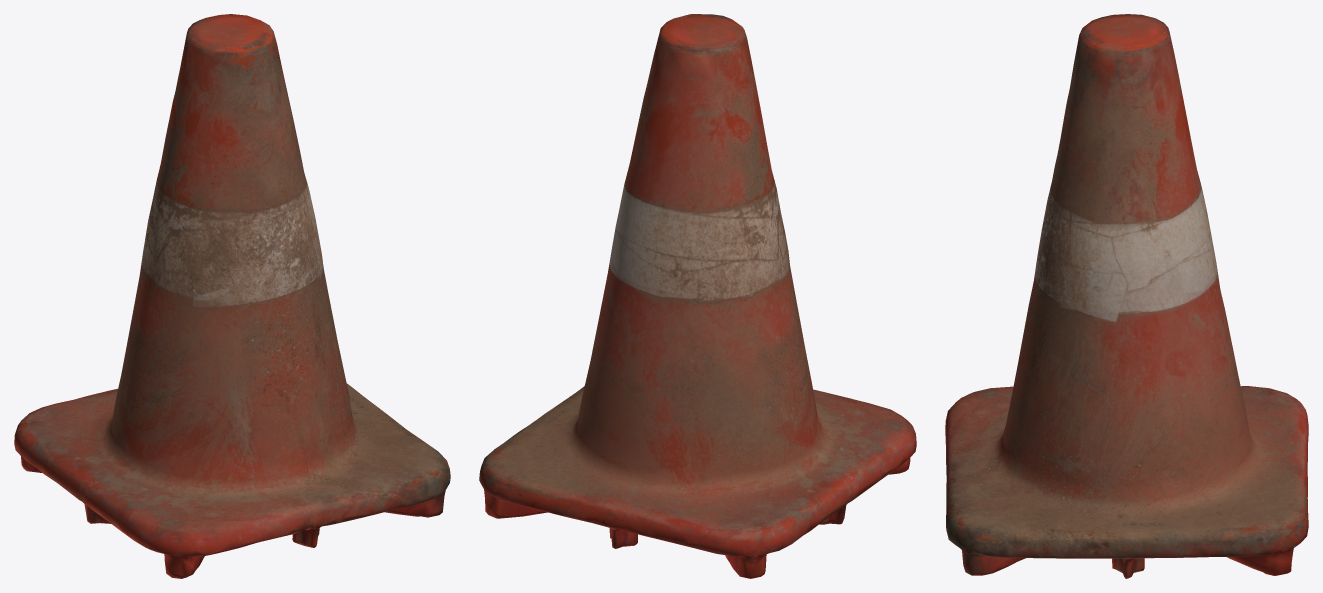
File: ConeTestModel.gltf
3 renders of one model, left to right at view 1: azimuth 30°, elevation 25°; view 2: azimuth 150°, elevation 25°; view 3: azimuth 270°, elevation 25°, orthographic. The views are drawn at different scales.
Visible parts, largest first — view 1: sm_cone; view 2: sm_cone; view 3: sm_cone.
Boxes of the visible parts, x1,y1,x2,y2 form: sm_cone: (14, 14, 450, 578); sm_cone: (479, 14, 916, 578); sm_cone: (945, 14, 1308, 578).
Bounding box in the file's own units: 0.186 × 0.27 × 0.1859.
1 material, 1 textured.
